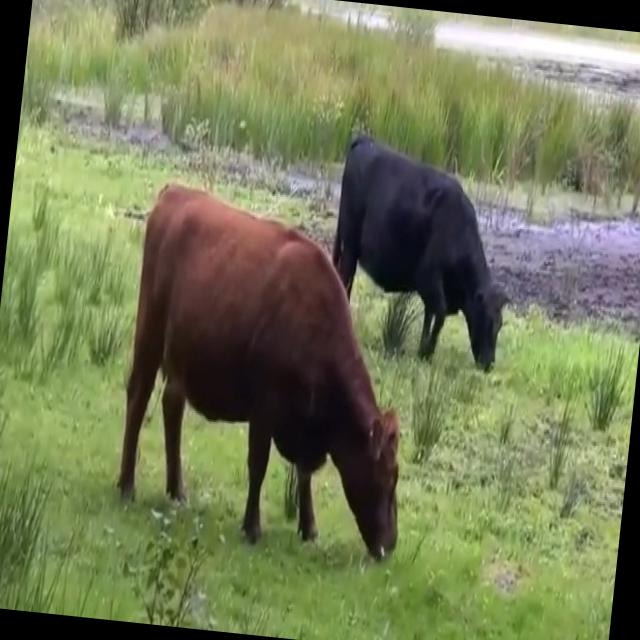cow: (118, 184, 398, 557), (334, 136, 503, 368)
